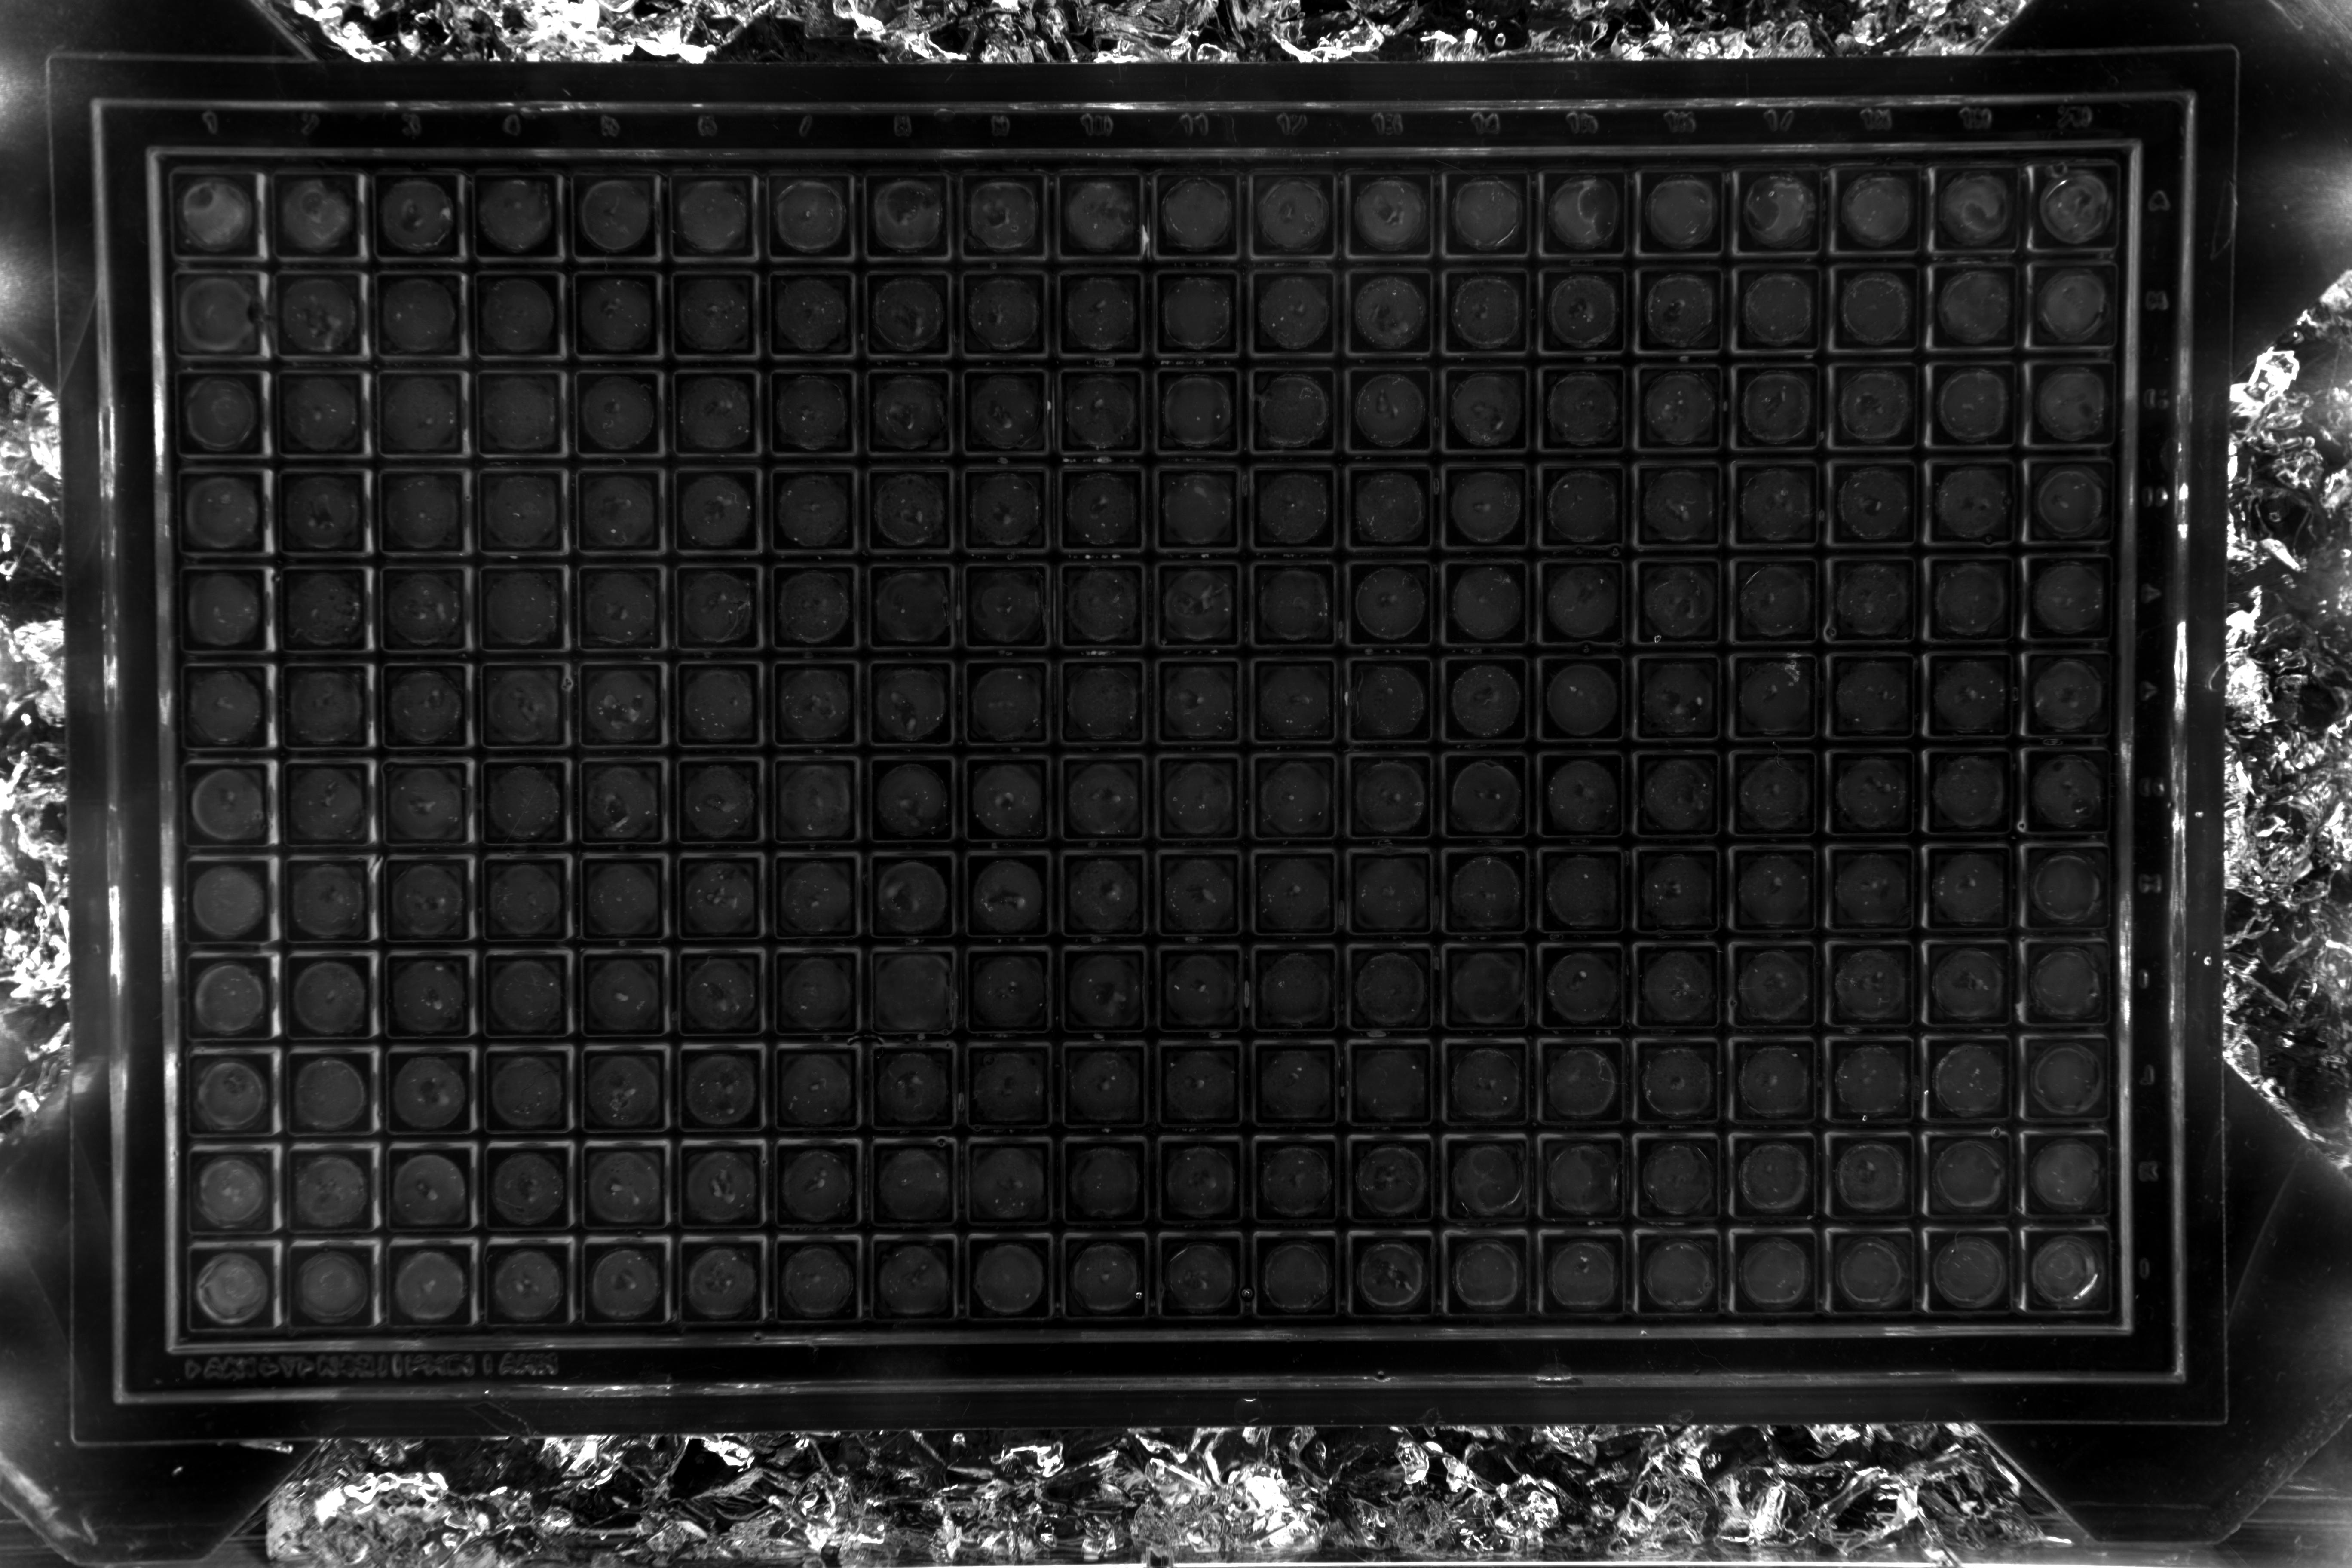WM_well: (203, 829, 292, 917), (397, 633, 486, 721), (497, 1118, 586, 1206), (588, 338, 677, 425), (1862, 429, 1951, 516), (199, 535, 287, 623), (205, 1218, 292, 1305), (205, 1120, 292, 1207), (401, 1216, 488, 1304), (499, 1020, 586, 1108), (588, 240, 675, 327), (693, 826, 780, 913), (884, 338, 971, 425), (1080, 920, 1167, 1008), (1080, 1017, 1167, 1104), (1272, 822, 1360, 910), (1274, 140, 1361, 227), (1368, 920, 1456, 1008), (1370, 822, 1458, 910), (1370, 434, 1458, 521), (1664, 530, 1752, 618), (1759, 1115, 1846, 1202), (1960, 724, 2047, 812)
